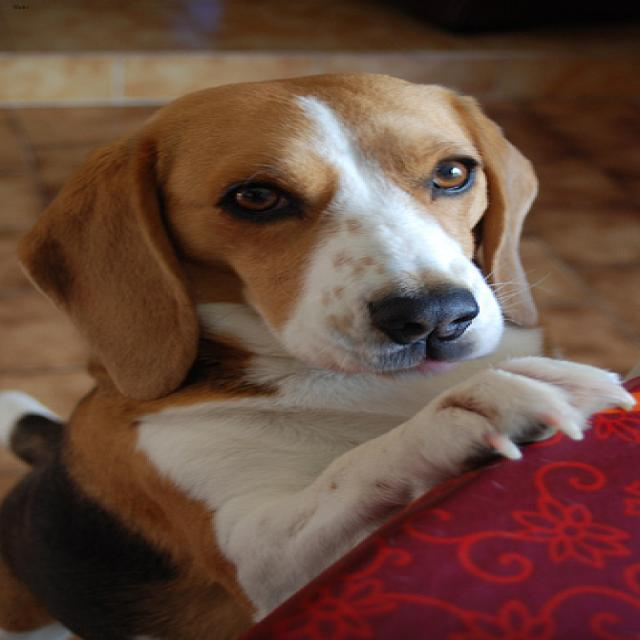dog-beagle: (2, 64, 636, 637)
